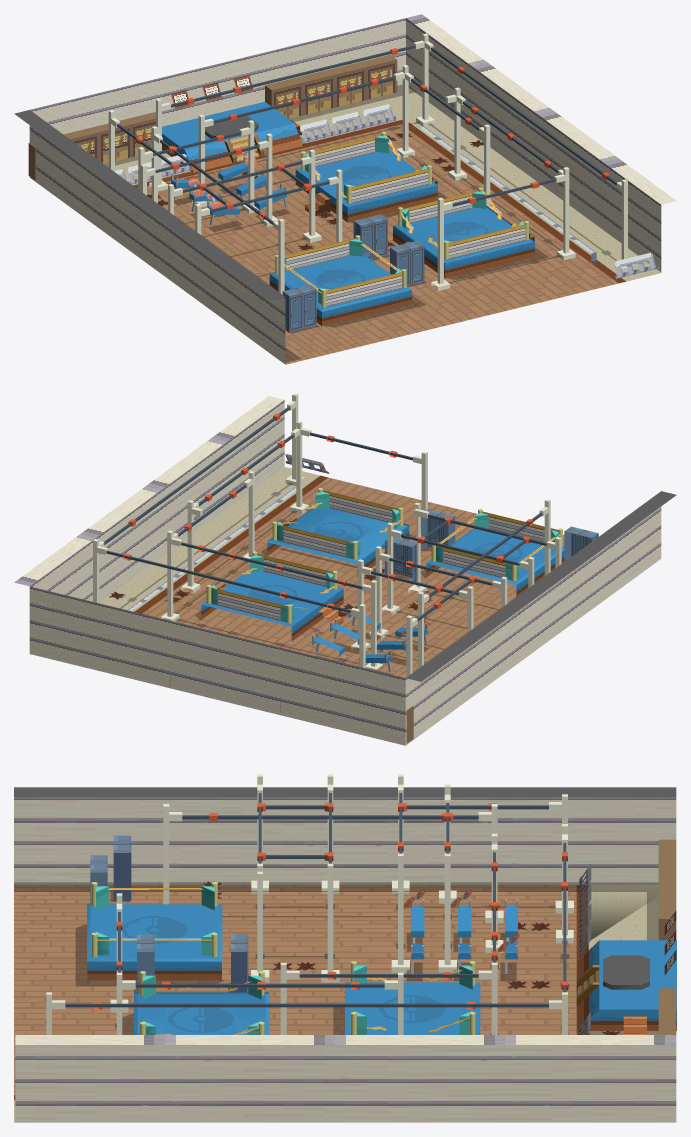
File: FIGHTGYM1-1.obj
3 views of the same model, one above another, from view 1: azimuth 30°, elevation 25°; view 2: azimuth 150°, elevation 25°; view 3: azimuth 270°, elevation 25° (orthographic). The views are drawn at different scales.
Visible parts, largest first — view 1: m_gym07_00_00c; view 2: m_gym07_00_00c; view 3: m_gym07_00_00c.
Boxes of the visible parts, x1,y1,x2,y2 form: m_gym07_00_00c: (14, 14, 676, 364); m_gym07_00_00c: (14, 393, 676, 745); m_gym07_00_00c: (14, 774, 676, 1122).
Bounding box in the file's own units: 416 × 86.02 × 452.
25 materials, 23 textured.
